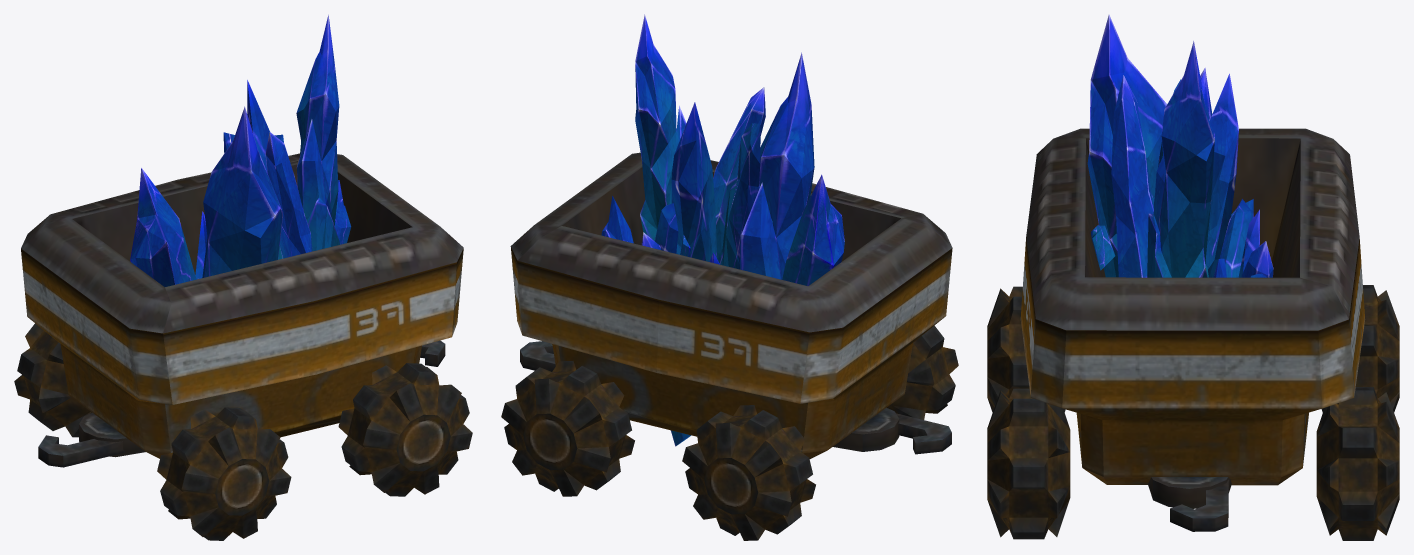
File: mineralcart_00.fbx
3 renders of one model, left to right at view 1: azimuth 30°, elevation 25°; view 2: azimuth 150°, elevation 25°; view 3: azimuth 270°, elevation 25°, orthographic. The views are drawn at different scales.
Parts seen in each view (by area): view 1: Geoset_1, Geoset_0; view 2: Geoset_1, Geoset_0; view 3: Geoset_1, Geoset_0.
Boxes of the visible parts, left/top/right/bottom form: Geoset_1: left=14, top=153, right=472, bottom=540; Geoset_0: left=130, top=14, right=351, bottom=286; Geoset_1: left=501, top=152, right=958, bottom=540; Geoset_0: left=601, top=14, right=844, bottom=446; Geoset_1: left=987, top=128, right=1399, bottom=540; Geoset_0: left=1087, top=14, right=1273, bottom=277.
Bounding box in the file's own units: 1.67 × 1.65 × 1.26.
Materials: 2 (2 with a texture image).
